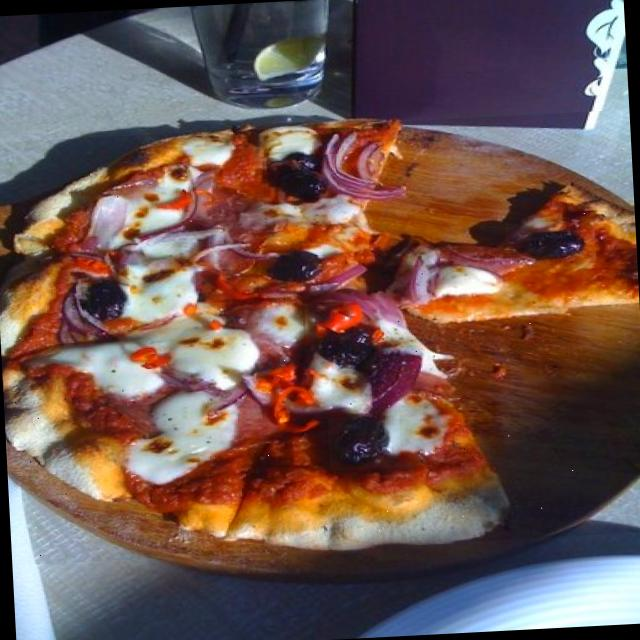Olive: (506, 220, 596, 272), (264, 154, 338, 213), (258, 244, 342, 294), (328, 415, 402, 471), (83, 264, 132, 332)
pizza: (1, 122, 637, 549)
tomato: (263, 374, 334, 434), (305, 300, 381, 344)
